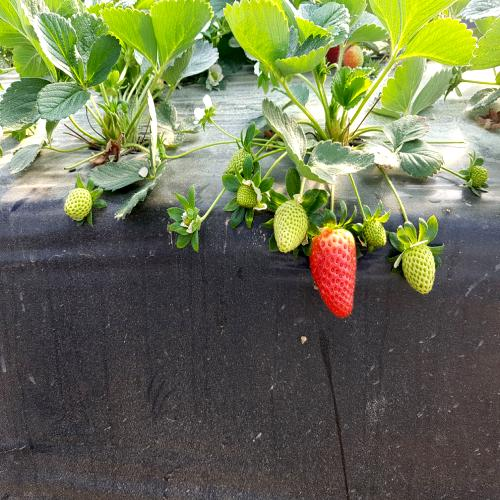ripe: (310, 222, 358, 327)
